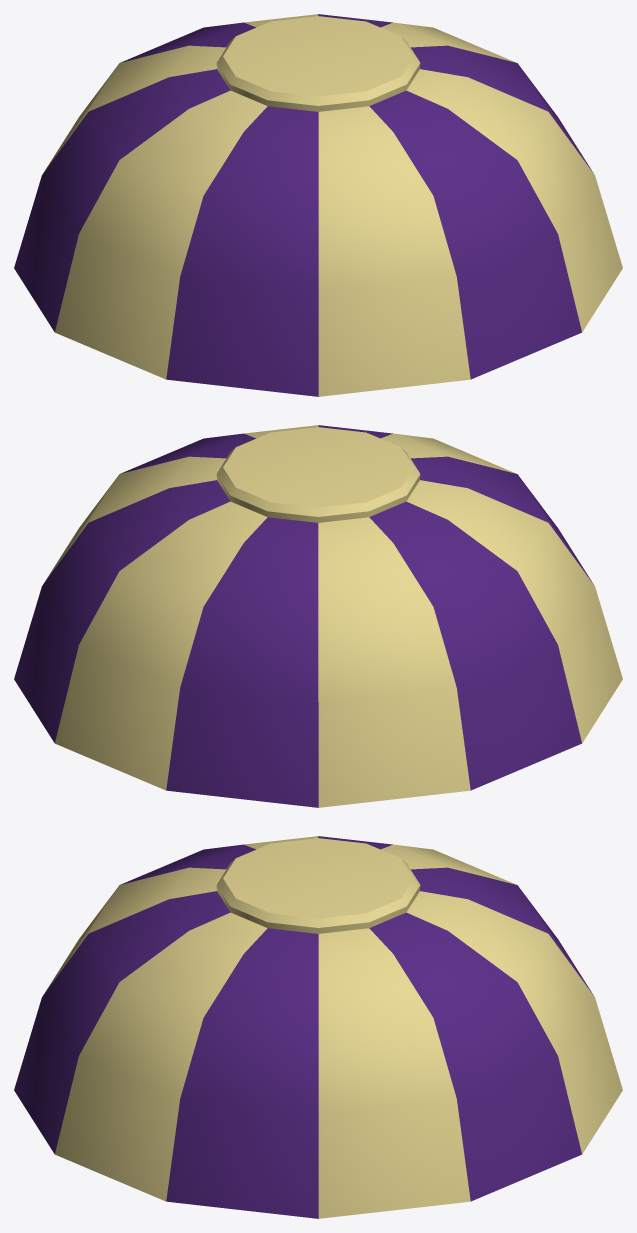
Rendered from Bumper.fbx.
3 views of the same model, one above another, from view 1: azimuth 30°, elevation 25°; view 2: azimuth 150°, elevation 25°; view 3: azimuth 270°, elevation 25° (orthographic).
Parts seen in each view (by area): view 1: Bumper; view 2: Bumper; view 3: Bumper.
Part boxes in pixels (x1,y1,x2,y2): Bumper: [14, 14, 622, 396]; Bumper: [14, 425, 622, 807]; Bumper: [14, 836, 622, 1218].
Size of the model in its own units: 45.44 by 17.9 by 45.44.
